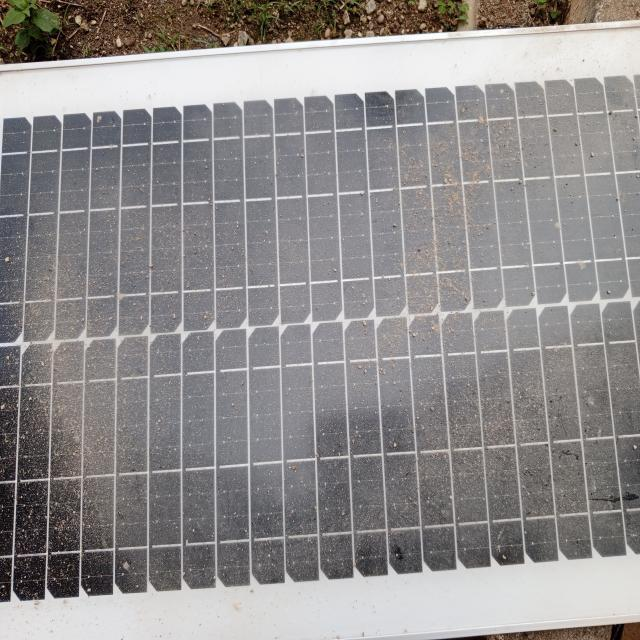Anomaly Solar Panel: (0, 77, 639, 605)
Surface Contaminant: (0, 77, 639, 605)
